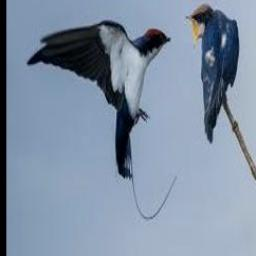Swallow: (28, 19, 171, 178), (186, 3, 239, 142)
